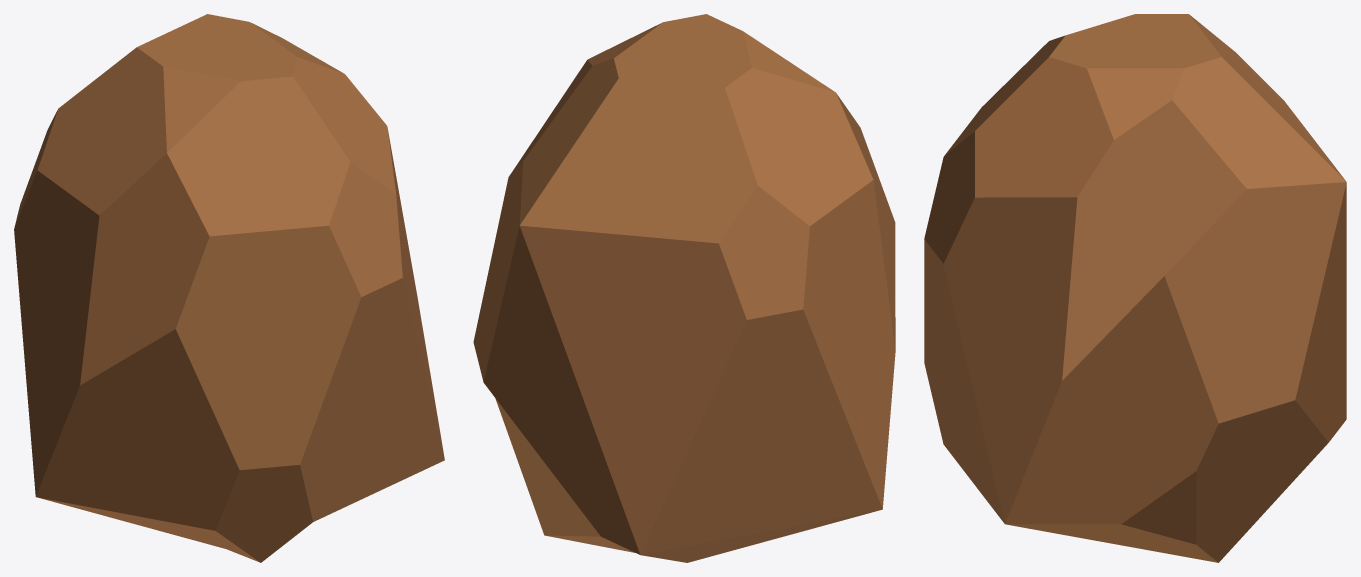
The model's file is Rock4.fbx.
The picture shows the model from 3 angles, left to right: view 1: azimuth 30°, elevation 25°; view 2: azimuth 150°, elevation 25°; view 3: azimuth 270°, elevation 25°; orthographic projection. The views are drawn at different scales.
Parts seen in each view (by area): view 1: Rock4; view 2: Rock4; view 3: Rock4.
Part boxes in pixels (left/top/right/bottom): Rock4: left=14, top=14, right=444, bottom=562; Rock4: left=473, top=14, right=895, bottom=562; Rock4: left=924, top=14, right=1346, bottom=562.
Bounding box in the file's own units: 37.35 × 49.68 × 37.83.
1 material, 1 textured.
